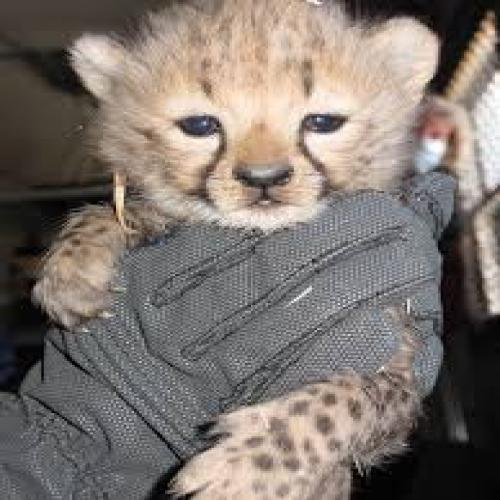cheetah-endangered: (43, 0, 436, 500)
